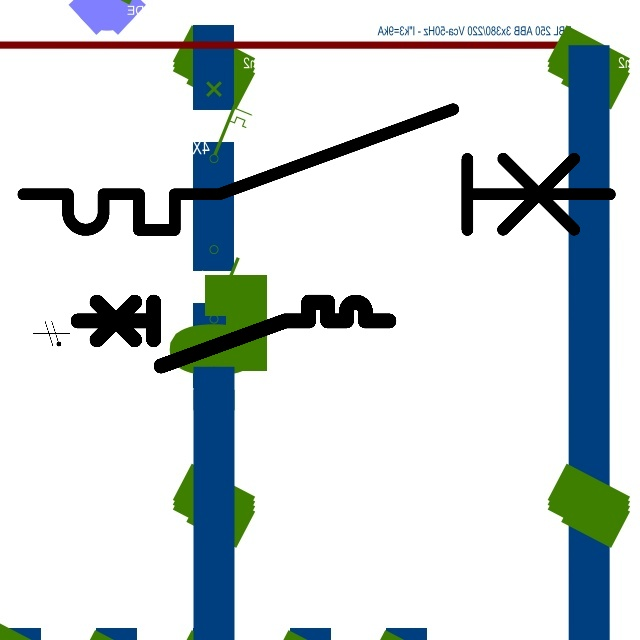interruptor_termomagnetico: (8, 94, 625, 245), (70, 294, 397, 374)
